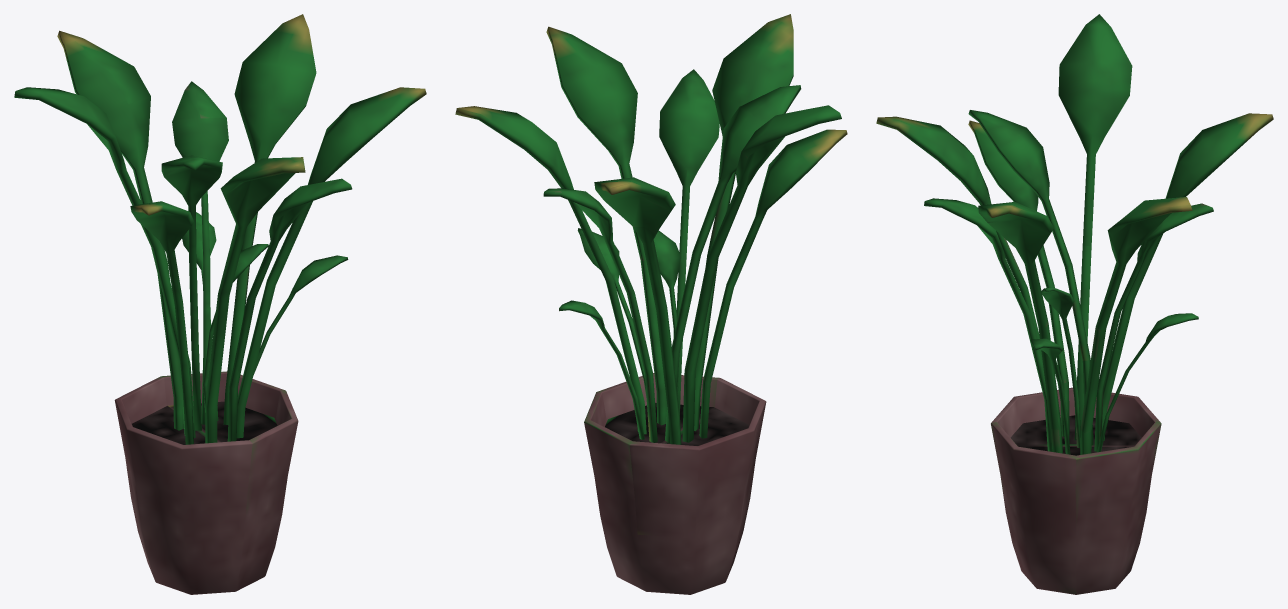
The model's file is S_plant.fbx.
The picture shows the model from 3 angles, left to right: view 1: azimuth 30°, elevation 25°; view 2: azimuth 150°, elevation 25°; view 3: azimuth 270°, elevation 25°; orthographic projection. The views are drawn at different scales.
Visible parts, largest first — view 1: Plane.001; view 2: Plane.001; view 3: Plane.001.
Part boxes in pixels (box(x1,y1,x2,y2)): Plane.001: box(14, 14, 426, 594); Plane.001: box(455, 14, 847, 594); Plane.001: box(876, 14, 1273, 594).
Bounding box in the file's own units: 89.48 × 124 × 93.41.
